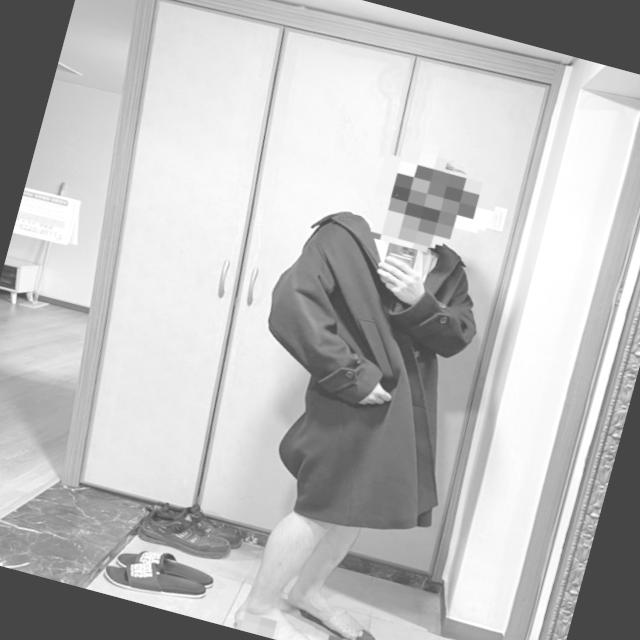coat: (221, 190, 510, 552)
